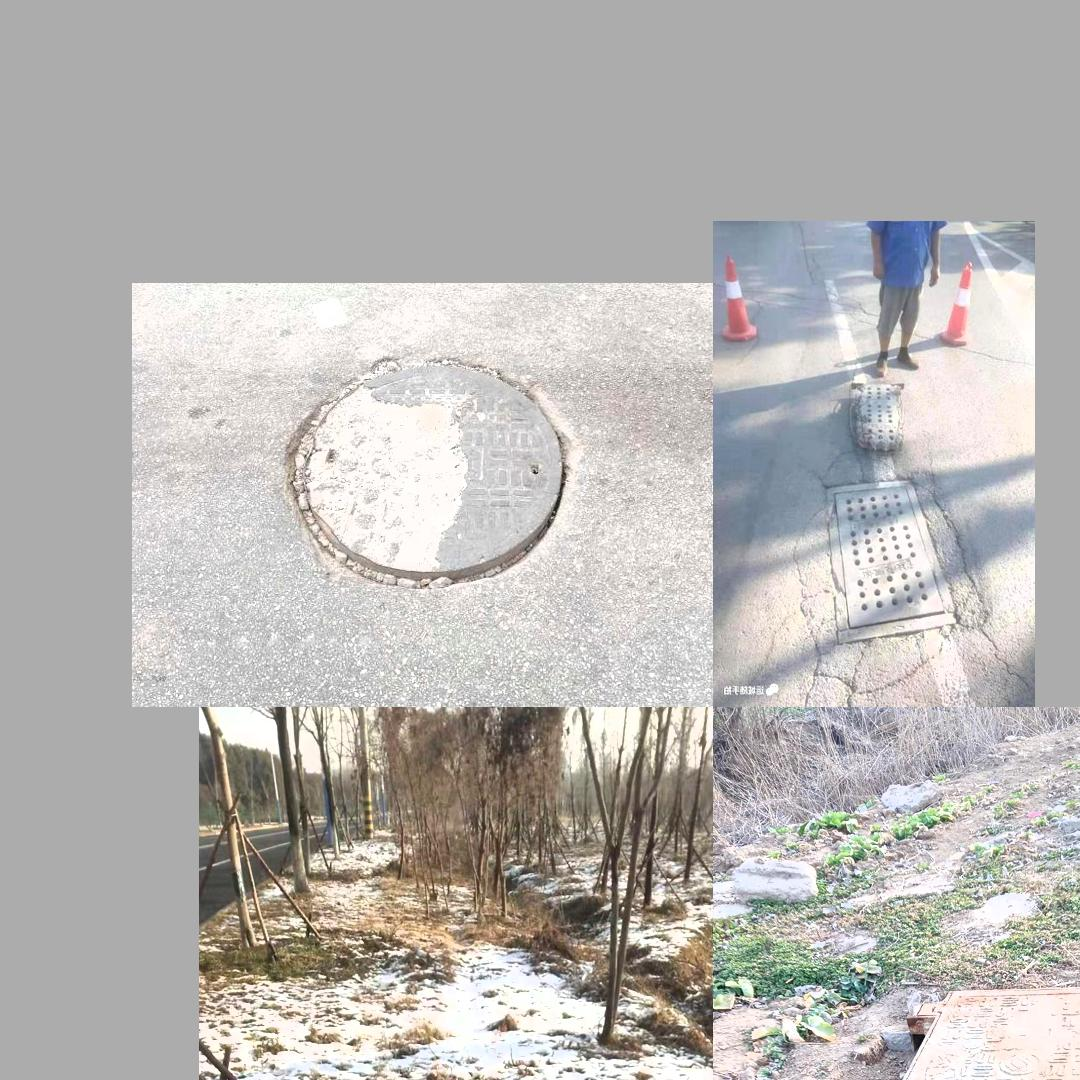circle: (271, 343, 579, 593), (785, 460, 992, 689), (833, 978, 1080, 1080)
